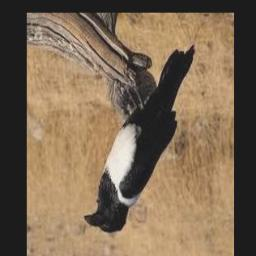Crow: (83, 44, 195, 233)
